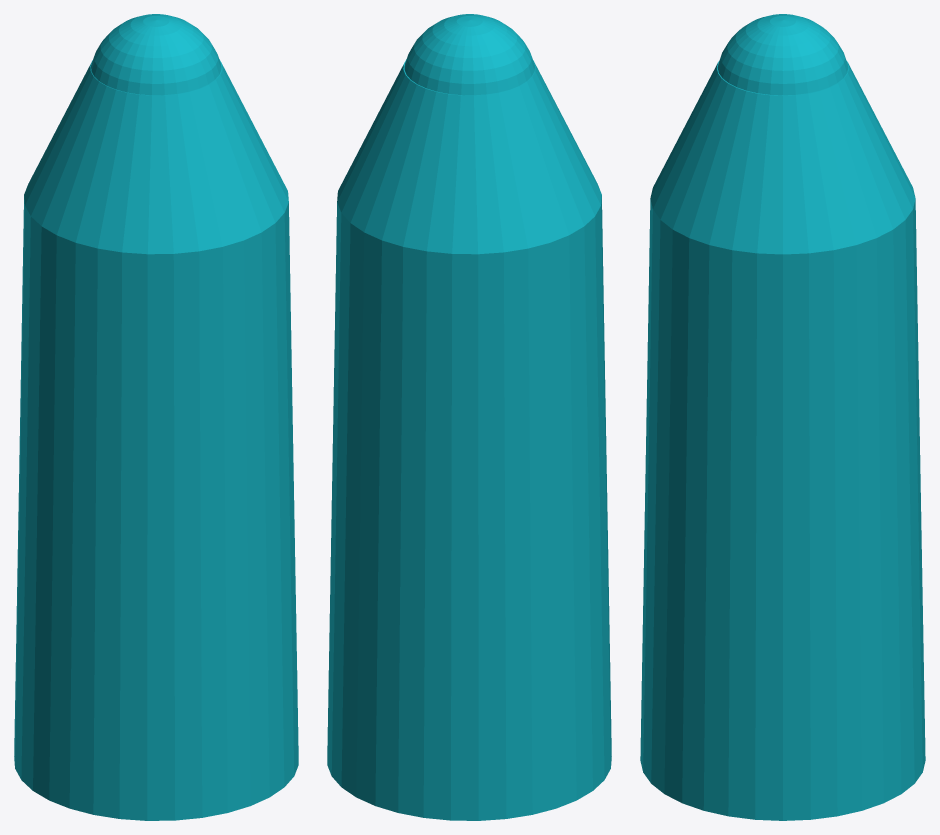
Rendered from bullet.obj.
3 renders of one model, left to right at view 1: azimuth 30°, elevation 25°; view 2: azimuth 150°, elevation 25°; view 3: azimuth 270°, elevation 25°, orthographic.
Parts seen in each view (by area): view 1: Body; view 2: Body; view 3: Body.
Boxes of the visible parts, box(x1,y1,x2,y2) form: Body: box(14, 14, 298, 820); Body: box(327, 14, 611, 820); Body: box(640, 14, 925, 820).
Size of the model in its own units: 2 by 5.73 by 2.
